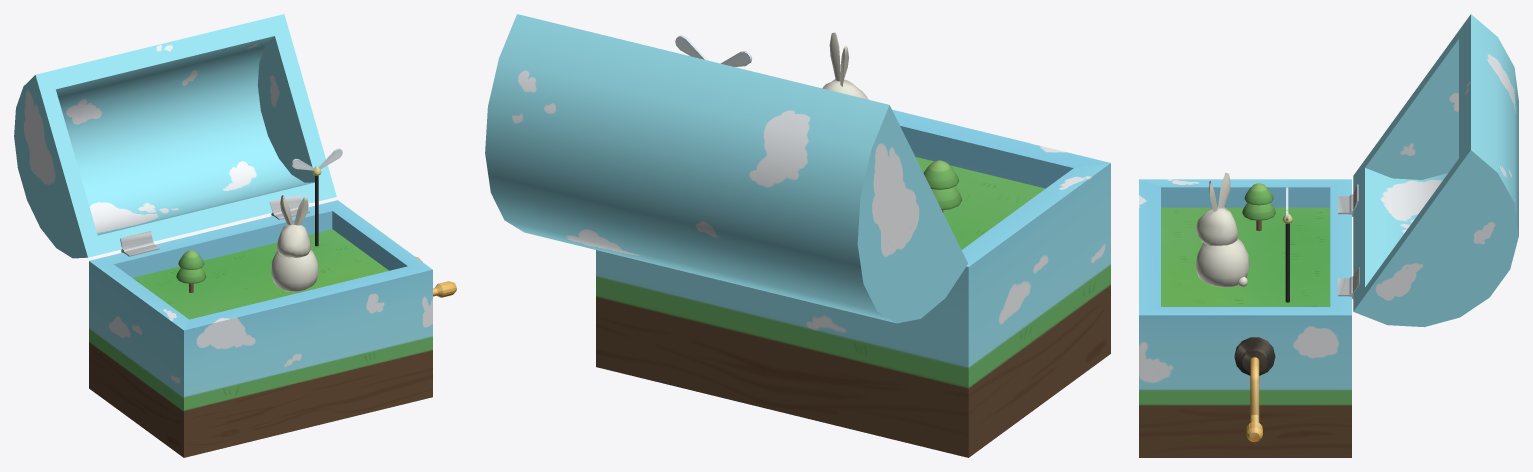
File: MusicBox.fbx
3 views of the same model, side by side, from view 1: azimuth 30°, elevation 25°; view 2: azimuth 150°, elevation 25°; view 3: azimuth 270°, elevation 25° (orthographic). The views are drawn at different scales.
Visible parts, largest first — view 1: box, lid, Sphere002; view 2: lid, box, Sphere002, Sphere001; view 3: box, lid, Sphere002, Line001.
Part boxes in pixels (box(x1,y1,x2,y2)): box: box(89, 175, 432, 457); lid: box(14, 14, 336, 258); Sphere002: box(271, 195, 318, 292); lid: box(485, 14, 967, 323); box: box(596, 109, 1110, 457); Sphere002: box(822, 32, 868, 99); Sphere001: box(675, 35, 752, 66); box: box(1139, 179, 1353, 457); lid: box(1352, 14, 1518, 327); Sphere002: box(1195, 173, 1249, 287); Line001: box(1234, 337, 1275, 442).
Bounding box in the file's own units: 371 × 302 × 337.
